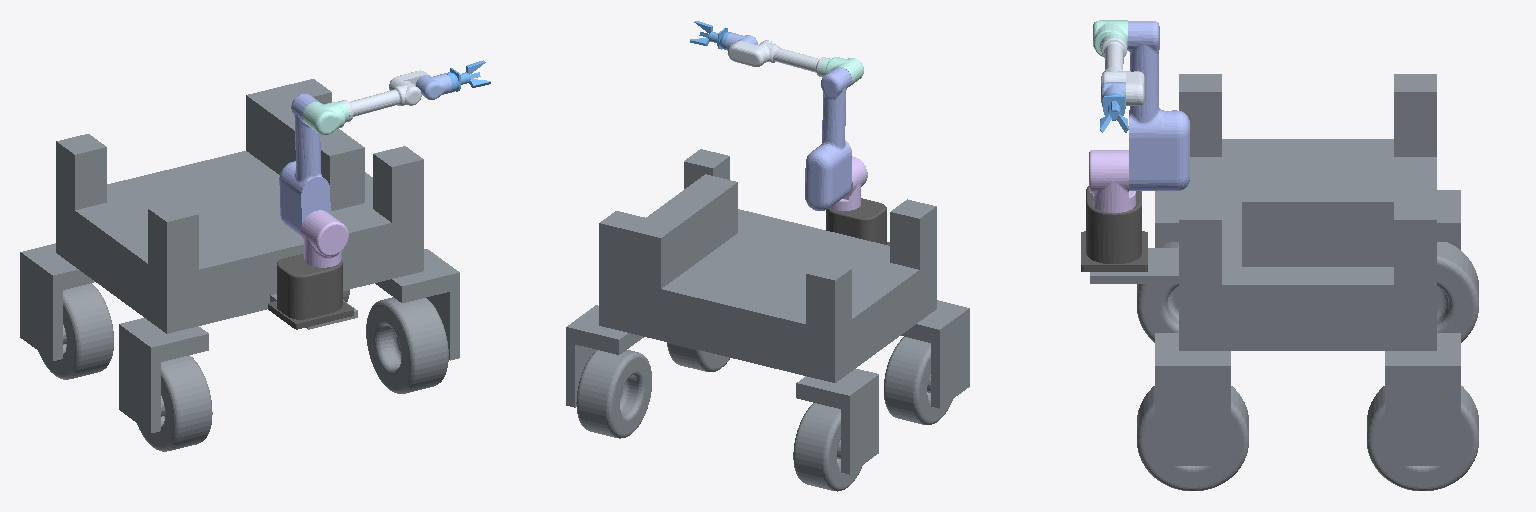
URDF robot description (robot_arm):
<?xml version="1.0" encoding="utf-8"?>
<!-- This URDF was automatically created by SolidWorks to URDF Exporter! Originally created by [author] ([email redacted]) 
     Commit Version: 1.5.0-0-g9aa0fdb  Build Version: 1.5.7004.21443
     For more information, please see http://wiki.ros.org/sw_urdf_exporter -->
<robot
  name="robot_arm">
  
  <link
    name="base_link">
    <visual>
      <origin
        xyz="0 0 -0.1655"
        rpy="0 0 -1.5708" />
      <geometry>
        <mesh
          filename="package://robot_arm/meshes/base_link.STL" />
      </geometry>
      <material
        name="">
        <color
          rgba="0.43922 0.43922 0.43922 1" />
      </material>
    </visual>
    <collision>
      <origin
        xyz="0 0 0"
        rpy="0 0 0" />
      <geometry>
        <mesh
          filename="package://robot_arm/meshes/base_link.STL" />
      </geometry>
    </collision>
  </link>
  <link
    name="link1">
    <visual>
      <origin
        xyz="0 0 0"
        rpy="0 0 0" />
      <geometry>
        <mesh
          filename="package://robot_arm/meshes/link1.STL" />
      </geometry>
      <material
        name="">
        <color
          rgba="0.87843 0.81176 1 1" />
      </material>
    </visual>
    <collision>
      <origin
        xyz="0 0 0"
        rpy="0 0 0" />
      <geometry>
        <mesh
          filename="package://robot_arm/meshes/link1.STL" />
      </geometry>
    </collision>
  </link>
<joint
    name="joint1"
    type="revolute">
    <origin
      xyz="0 0 0"
      rpy="0 0 3.14" />
    <parent
      link="base_link" />
    <child
      link="link1" />
    <axis
      xyz="0 0 1" />
    <limit
      lower="-3"
      upper="3"
      effort="0"
      velocity="0.2304" />
  </joint>
  <link
    name="link2">
    <visual>
      <origin
        xyz="0 0 0"
        rpy="0 0 0" />
      <geometry>
        <mesh
          filename="package://robot_arm/meshes/link2.STL" />
      </geometry>
      <material
        name="">
        <color
          rgba="0.74118 0.79216 1 1" />
      </material>
    </visual>
    <collision>
      <origin
        xyz="0 0 0"
        rpy="0 0 0" />
      <geometry>
        <mesh
          filename="package://robot_arm/meshes/link2.STL" />
      </geometry>
    </collision>
  </link>
<joint
    name="joint2"
    type="revolute">
    <origin
      xyz="0 -0.069 0"
      rpy="1.5708 -4.7124 0" />
    <parent
      link="link1" />
    <child
      link="link2" />
    <axis
      xyz="0 0 -1" />
    <limit
      lower="0.1"
      upper="3.1"
      effort="0"
      velocity="0.2304" />
  </joint>
  <link
    name="link3">
    <visual>
      <origin
        xyz="0 0 0"
        rpy="0 0 0" />
      <geometry>
        <mesh
          filename="package://robot_arm/meshes/link3.STL" />
      </geometry>
      <material
        name="">
        <color
          rgba="0.81176 1 0.97647 1" />
      </material>
    </visual>
    <collision>
      <origin
        xyz="0 0 0"
        rpy="0 0 0" />
      <geometry>
        <mesh
          filename="package://robot_arm/meshes/link3.STL" />
      </geometry>
    </collision>
  </link>
<joint
    name="joint3"
    type="revolute">
    <origin
      xyz="0 -0.682434 -0.069"
      rpy="0 0 -1.5708" />
    <parent
      link="link2" />
    <child
      link="link3" />
    <axis
      xyz="0 0 -1" />

    <limit
      lower="-1.2"
      upper="1.5708"
      effort="0"
      velocity="0.3142" />
  </joint>
  <link
    name="link4">
    <visual>
      <origin
        xyz="0 0 0"
        rpy="0 0 0" />
      <geometry>
        <mesh
          filename="package://robot_arm/meshes/link4.STL" />
      </geometry>
      <material
        name="">
        <color
          rgba="0.90588 0.9451 1 1" />
      </material>
    </visual>
    <collision>
      <origin
        xyz="0 0 0"
        rpy="0 0 0" />
      <geometry>
        <mesh
          filename="package://robot_arm/meshes/link4.STL" />
      </geometry>
    </collision>
  </link>
<joint
    name="joint4"
    type="revolute">
    <origin
      xyz="0 0.683159 0"
      rpy="-1.5708 1.5708 0" />
    <parent
      link="link3" />
    <child
      link="link4" />
    <axis
      xyz="0 0 1" />
    <limit
      lower="-3.1416"
      upper="3.1416"
      effort="0"
      velocity="0.4887" />
  </joint>
  <link
    name="link5">
    <visual>
      <origin
        xyz="0 0 0"
        rpy="0 0 0" />
      <geometry>
        <mesh
          filename="package://robot_arm/meshes/link5.STL" />
      </geometry>
      <material
        name="">
        <color
          rgba="0.71765 0.80784 1 1" />
      </material>
    </visual>
    <collision>
      <origin
        xyz="0 0 0"
        rpy="0 0 0" />
      <geometry>
        <mesh
          filename="package://robot_arm/meshes/link5.STL" />
      </geometry>
    </collision>
  </link>
<joint
    name="joint5"
    type="revolute">
    <origin
      xyz="-0.001 0 0"
      rpy="1.5708 0 -1.5708" />
    <parent
      link="link4" />
    <child
      link="link5" />
    <axis
      xyz="0 0 1" />
    <limit
      lower="-1.95"
      upper="1.95"
      effort="0"
      velocity="0.466" />
  </joint>
  <link
    name="link6">
    <visual>
      <origin
        xyz="0 0 -0.137"
        rpy="0 0 0" />
      <geometry>
        <mesh
          filename="package://robot_arm/meshes/link6.STL" />
      </geometry>
      <material
        name="">
        <color
          rgba="0.52941 0.76471 1 1" />
      </material>
    </visual>
    <collision>
      <origin
        xyz="0 0 0"
        rpy="0 0 0" />
      <geometry>
        <mesh
          filename="package://robot_arm/meshes/link6.STL" />
      </geometry>
    </collision>
  </link>
<joint
    name="joint6"
    type="revolute">
    <origin
      xyz="0 0.2935 0"
      rpy="-1.5708 1.5708 0" />
    <parent
      link="link5" />
    <child
      link="link6" />
    <axis
      xyz="0 0 1" />
    <limit
      lower="-3.15"
      upper="3.15"
      effort="0"
      velocity="0.4887" />
  </joint>


  <link
    name="link7">
    <visual>
      <origin
        xyz="0 0 0"
        rpy="-1.5708 0 2.618" />
      <geometry>
        <mesh
          filename="package://robot_arm/meshes/link7.STL" />
      </geometry>
      <material
        name="">
        <color
          rgba="0.52941 0.76471 1 1" />
      </material>
    </visual>
    <collision>
      <origin
        xyz="0 0 0"
        rpy="0 0 0" />
      <geometry>
        <mesh
          filename="package://robot_arm/meshes/link7.STL" />
      </geometry>
    </collision>
  </link>
<joint
    name="joint7"
    type="fixed">
    <origin
      xyz="0 0 -0.127"
      rpy="0 0 0" />
    <parent
      link="link6" />
    <child
      link="link7" />
    <axis
      xyz="0 0 0" />
  </joint>

  
  <link
    name="frame_link">
    <visual>
      <origin
        xyz="0 0 0"
        rpy="0 0 0" />
      <geometry>
        <mesh
          filename="package://robot_arm/meshes/frame_link.STL" />
      </geometry>
      <material
        name="">
        <color
          rgba="0.615686274509804 0.643137254901961 0.674509803921569 1" />
      </material>
    </visual>
    <collision>
      <origin
        xyz="0 0 0"
        rpy="0 0 0" />
      <geometry>
        <mesh
          filename="package://robot_arm/meshes/frame_link.STL" />
      </geometry>
    </collision>
  </link>
  <joint
    name="frame_joint"
    type="fixed">
    <origin
      xyz="0 0 -0.4599"
      rpy="0 0 -1.5708" />
    <parent
      link="base_link" />
    <child
      link="frame_link" />
    <axis
      xyz="0 0 0" />
    <safety_controller
      k_velocity="0" />
  </joint>
</robot>

--- Facts derived from the render (not from the file) ---
Views: 3 orthographic renders of the robot side by side, from view 1: azimuth 30°, elevation 25°; view 2: azimuth 150°, elevation 25°; view 3: azimuth 270°, elevation 25°.
Robot: robot_arm — 9 links, 8 joints (6 revolute, 2 fixed); root link base_link; default pose: joints at zero except 1 at the middle of their limits (joint2 = 1.6).
Visible links, largest first — view 1: frame_link, base_link, link2, link1, link4, link3, link5; view 2: frame_link, link2, base_link, link4, link1, link3; view 3: frame_link, link2, base_link, link1, link4, link3, link7.
Link boxes in pixels (x1=…): frame_link: x1=20, y1=79, x2=459, y2=451; base_link: x1=268, y1=254, x2=353, y2=329; link2: x1=279, y1=94, x2=330, y2=236; link1: x1=301, y1=210, x2=348, y2=267; link4: x1=342, y1=70, x2=429, y2=121; link3: x1=303, y1=101, x2=348, y2=134; link5: x1=416, y1=73, x2=451, y2=99; frame_link: x1=566, y1=149, x2=969, y2=491; link2: x1=805, y1=67, x2=851, y2=210; base_link: x1=826, y1=198, x2=889, y2=245; link4: x1=728, y1=40, x2=825, y2=76; link1: x1=830, y1=156, x2=867, y2=210; link3: x1=820, y1=57, x2=863, y2=85; frame_link: x1=1090, y1=74, x2=1478, y2=490; link2: x1=1128, y1=21, x2=1189, y2=190; base_link: x1=1081, y1=186, x2=1147, y2=271; link1: x1=1089, y1=150, x2=1135, y2=212; link4: x1=1101, y1=37, x2=1144, y2=105; link3: x1=1093, y1=20, x2=1127, y2=56; link7: x1=1100, y1=96, x2=1128, y2=132.
Bounding box of the posed robot: 1.97 × 1.84 × 2.02 m (x, y, z).
Meshes: 9 distinct files referenced, 9 mesh visuals loaded (9 binary STL).